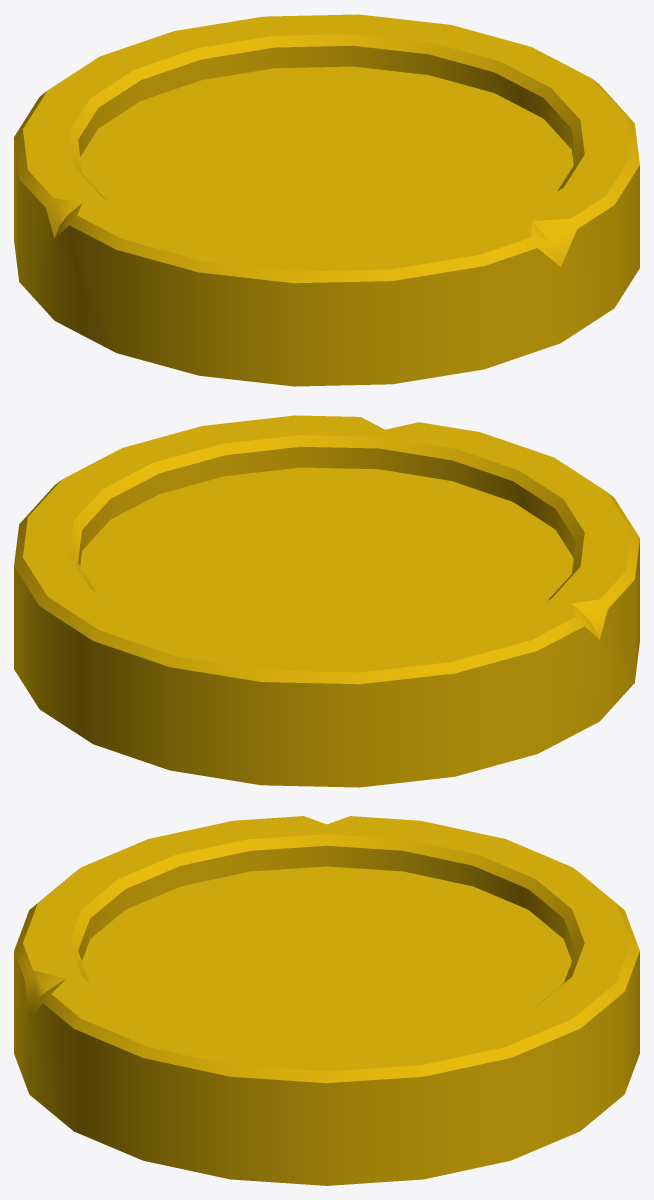
File: CoinModel.fbx
The picture shows the model from 3 angles, top to bottom: view 1: azimuth 30°, elevation 25°; view 2: azimuth 150°, elevation 25°; view 3: azimuth 270°, elevation 25°; orthographic projection.
Parts seen in each view (by area): view 1: Cylinder; view 2: Cylinder; view 3: Cylinder.
Boxes of the visible parts, bbox=[...] form: Cylinder: bbox=[14, 14, 639, 386]; Cylinder: bbox=[14, 415, 639, 787]; Cylinder: bbox=[14, 816, 639, 1185].
Size of the model in its own units: 200 by 39 by 200.
